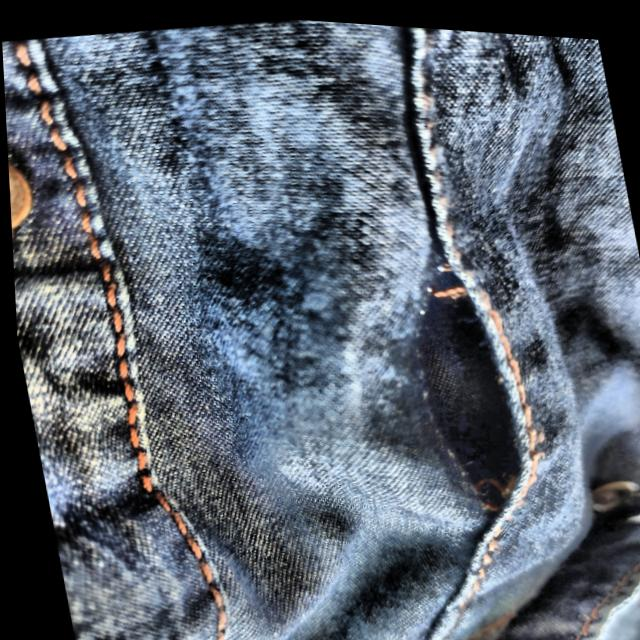seam: (344, 216, 566, 542)
